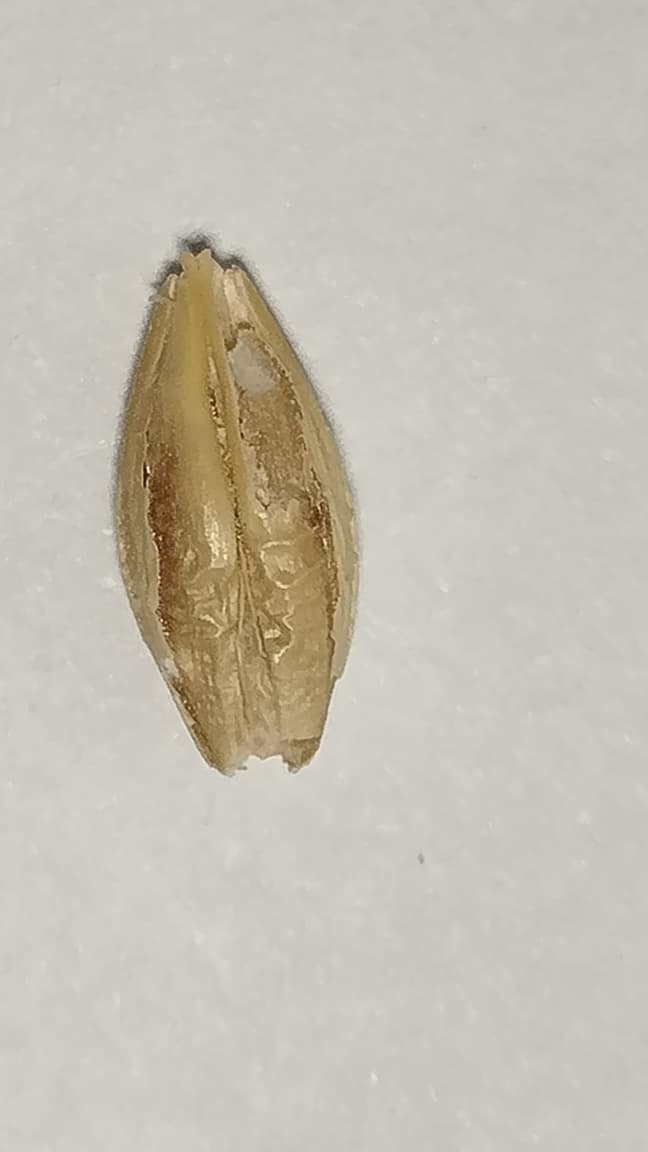damage: (114, 252, 357, 771)
insectdamage: (225, 326, 344, 506)
shriveledseed: (192, 524, 354, 688)
staindamage: (147, 276, 236, 635)
